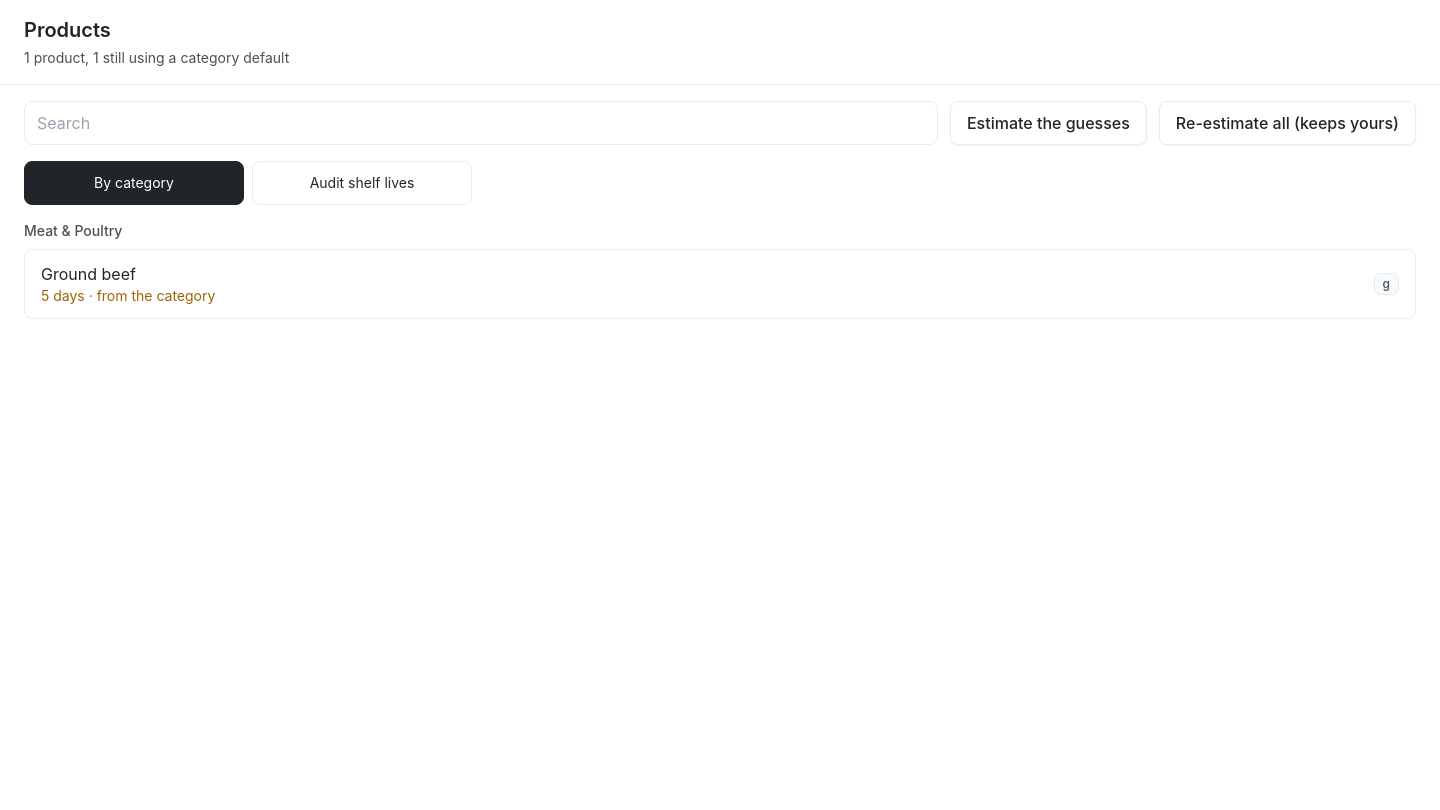
Test: ProductsPage › opens the editor for a product that is not in stock
Click the button "Ground beef 5 days · from the category g". click: [88, 274]
box: 24,249 -> 1416,319
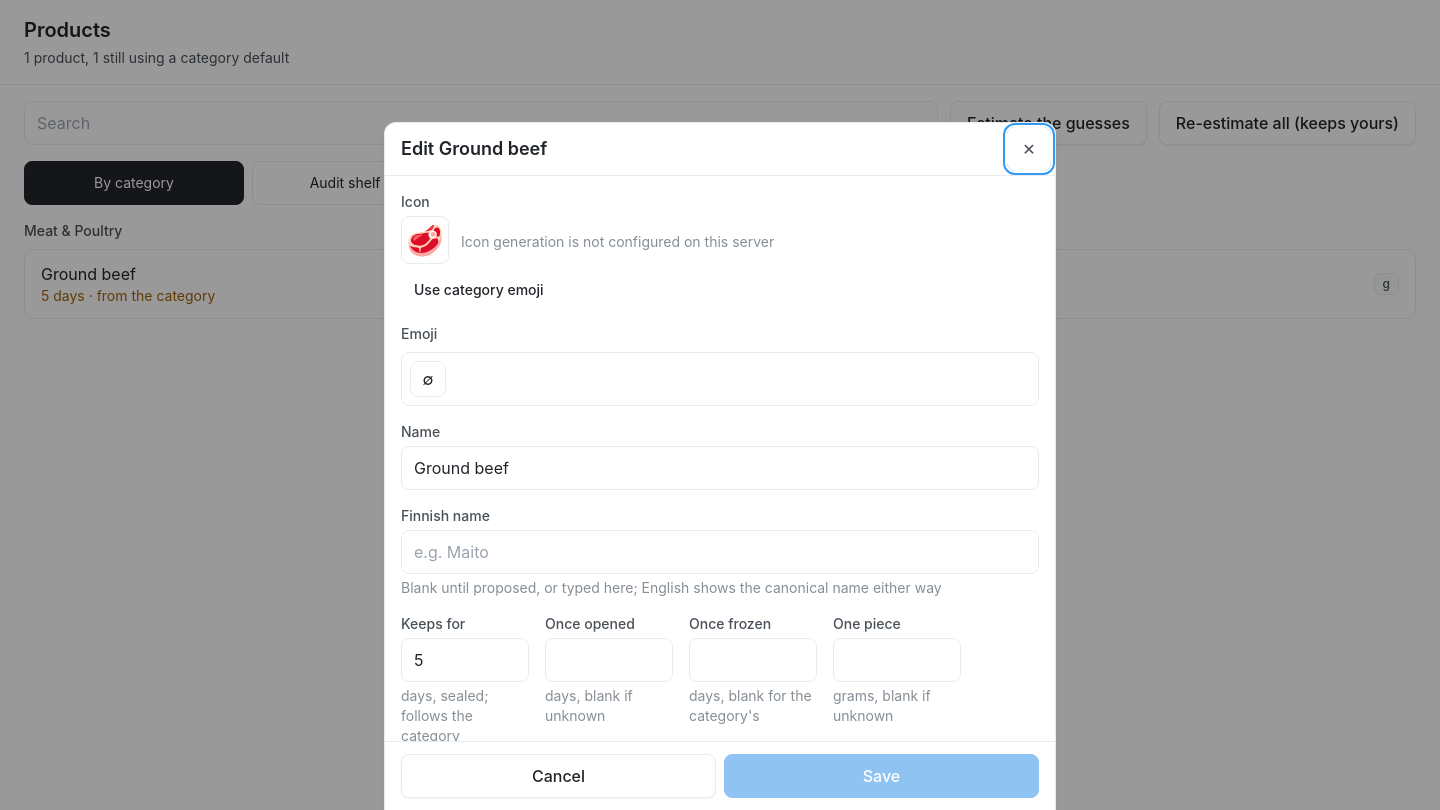
Now the number field labelled "Keeps for" holds "5", box 401,638 -> 529,682
